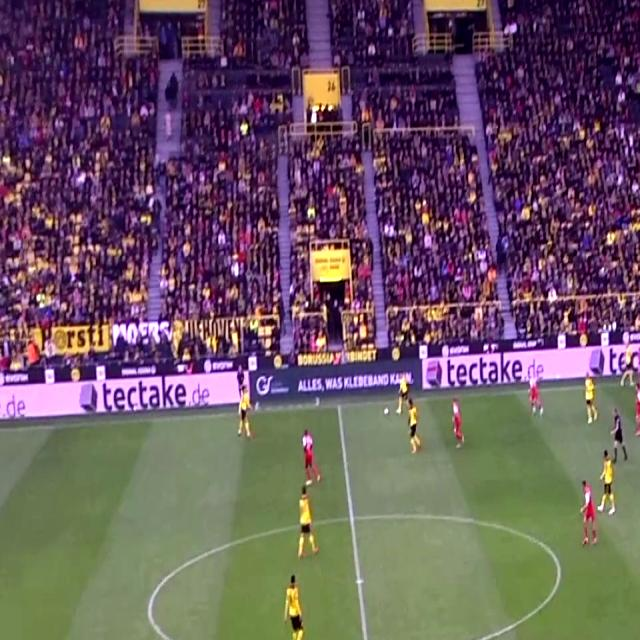ball: (381, 402, 391, 422)
referee: (612, 402, 629, 469)
soccer-player: (280, 571, 310, 640), (576, 468, 600, 548), (235, 359, 256, 446), (599, 448, 618, 524), (301, 427, 321, 493), (448, 391, 468, 457), (529, 358, 548, 424), (580, 364, 598, 431), (406, 394, 424, 459), (401, 370, 419, 418), (632, 362, 640, 438)
